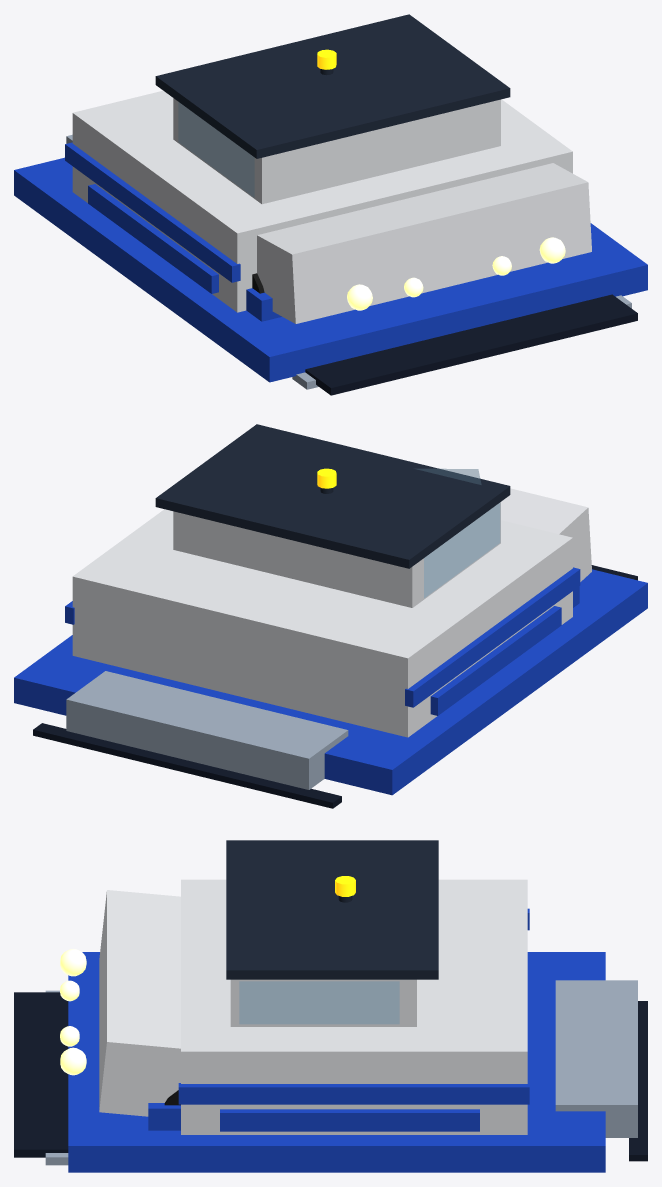
Rendered from zamboni-original.glb.
3 views of the same model, one above another, from view 1: azimuth 30°, elevation 25°; view 2: azimuth 150°, elevation 25°; view 3: azimuth 270°, elevation 25° (orthographic). The views are drawn at different scales.
Parts seen in each view (by area): view 1: OriginalLowPolyZamboni; view 2: OriginalLowPolyZamboni; view 3: OriginalLowPolyZamboni.
Part boxes in pixels (bbox=[...]): OriginalLowPolyZamboni: bbox=[14, 14, 647, 395]; OriginalLowPolyZamboni: bbox=[14, 424, 647, 808]; OriginalLowPolyZamboni: bbox=[14, 840, 647, 1172].
Size of the model in its own units: 5.3 by 2.65 by 7.31.
